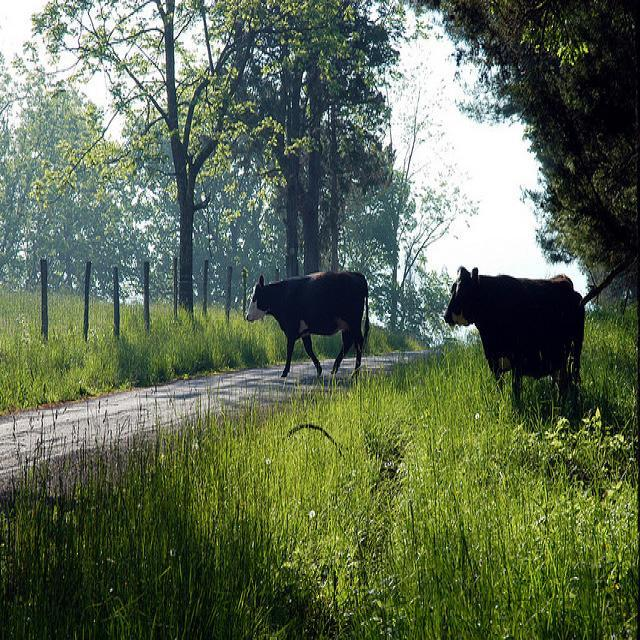cow: (442, 262, 585, 407), (244, 269, 370, 379)
